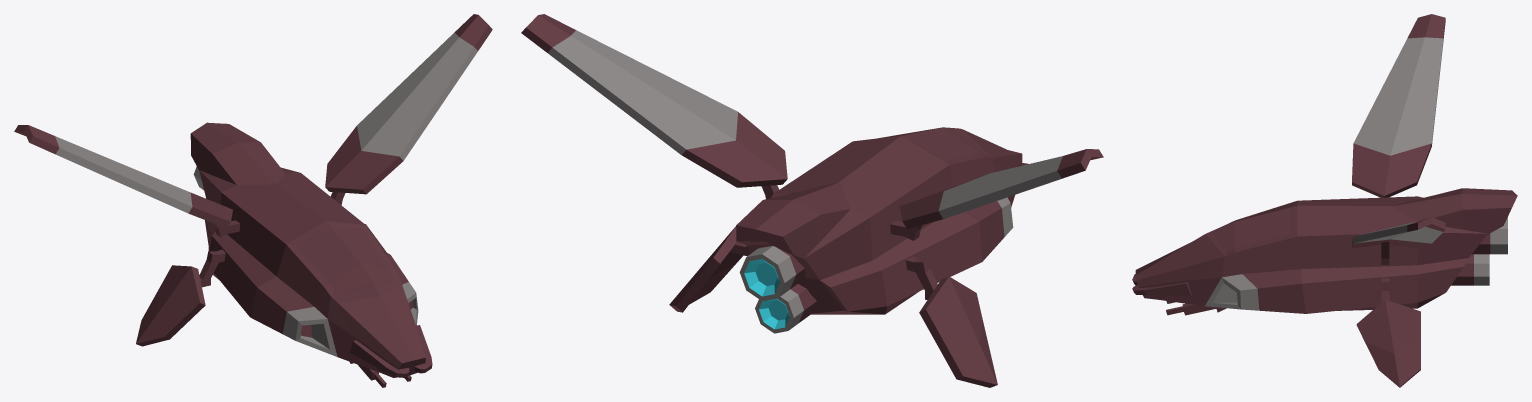
Rendered from scifi-spaceship-four-wing.fbx.
3 views of the same model, side by side, from view 1: azimuth 30°, elevation 25°; view 2: azimuth 150°, elevation 25°; view 3: azimuth 270°, elevation 25° (orthographic). The views are drawn at different scales.
Visible parts, largest first — view 1: scifi-spaceship-four-wing; view 2: scifi-spaceship-four-wing; view 3: scifi-spaceship-four-wing.
Part boxes in pixels (x1,y1,x2,y2): scifi-spaceship-four-wing: (14,14,492,387); scifi-spaceship-four-wing: (521,14,1103,387); scifi-spaceship-four-wing: (1132,14,1517,387).
Bounding box in the file's own units: 9.87 × 4.73 × 7.7.
